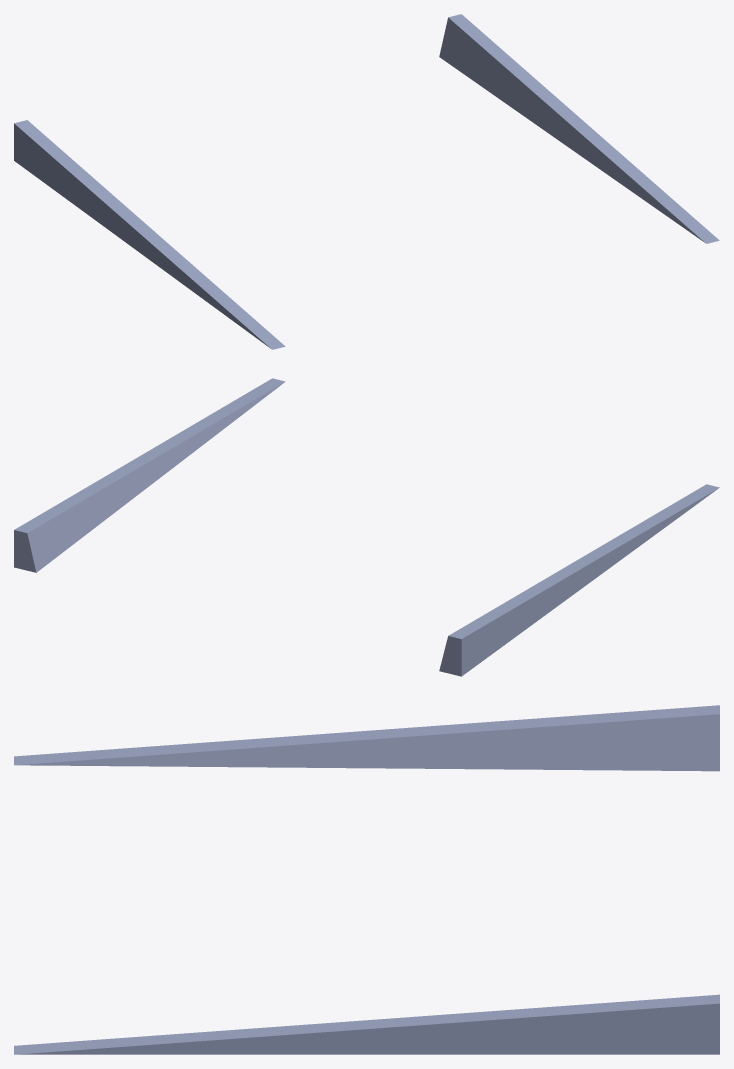
File: road-straight-barrier-end.glb
3 renders of one model, top to bottom at view 1: azimuth 30°, elevation 25°; view 2: azimuth 150°, elevation 25°; view 3: azimuth 270°, elevation 25°, orthographic. The views are drawn at different scales.
Parts seen in each view (by area): view 1: road-straight-barrier-end; view 2: road-straight-barrier-end; view 3: road-straight-barrier-end.
Boxes of the visible parts, x1=… form: road-straight-barrier-end: x1=14, y1=14, x2=719, y2=349; road-straight-barrier-end: x1=14, y1=378, x2=719, y2=676; road-straight-barrier-end: x1=14, y1=705, x2=719, y2=1054.
Bounding box in the file's own units: 1 × 0.08 × 1.
Materials: 1 (1 with a texture image).
